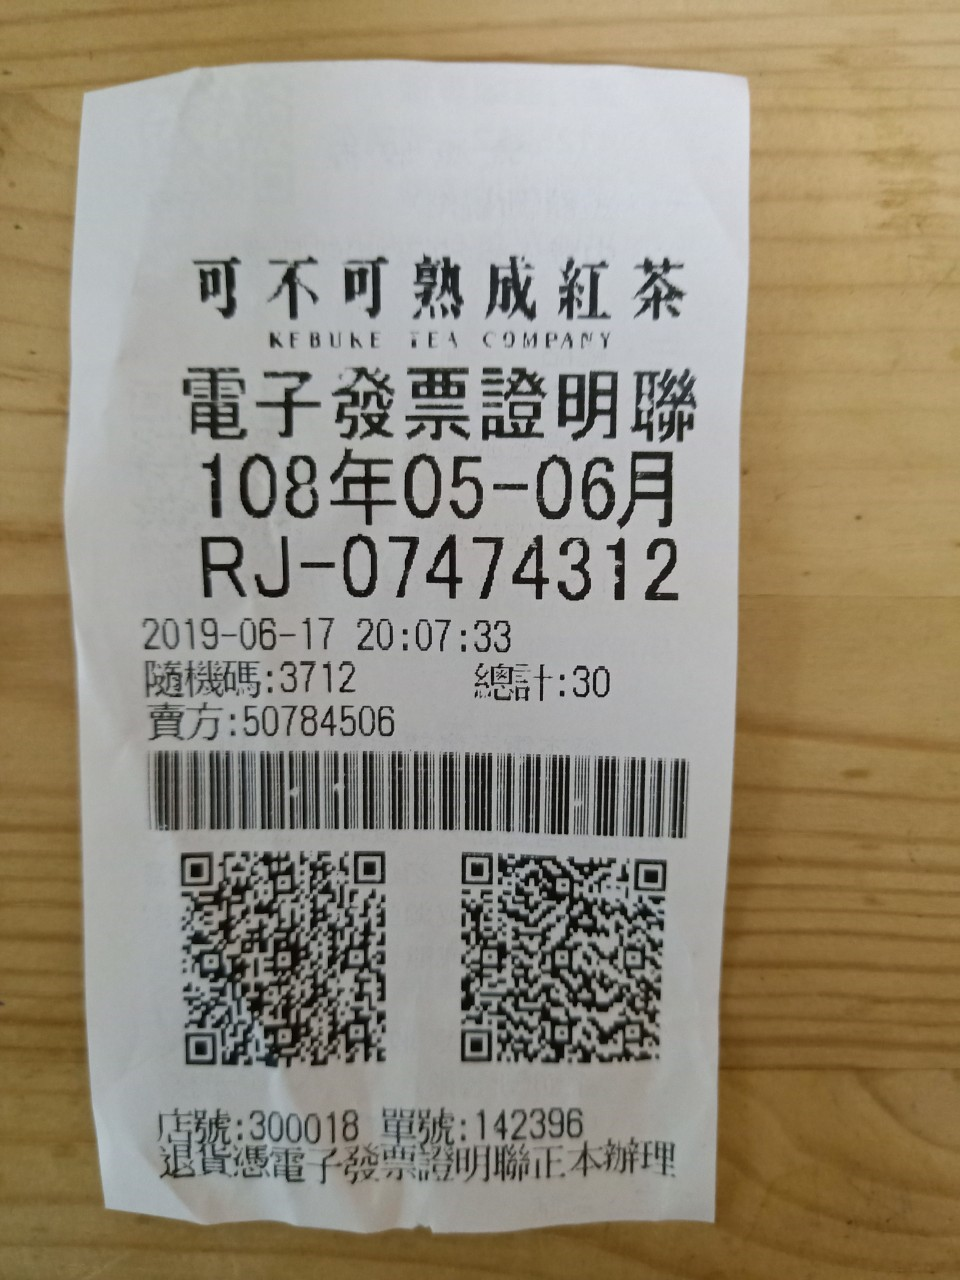Date_New: (199, 447, 677, 532)
Number_New: (340, 533, 683, 608)
